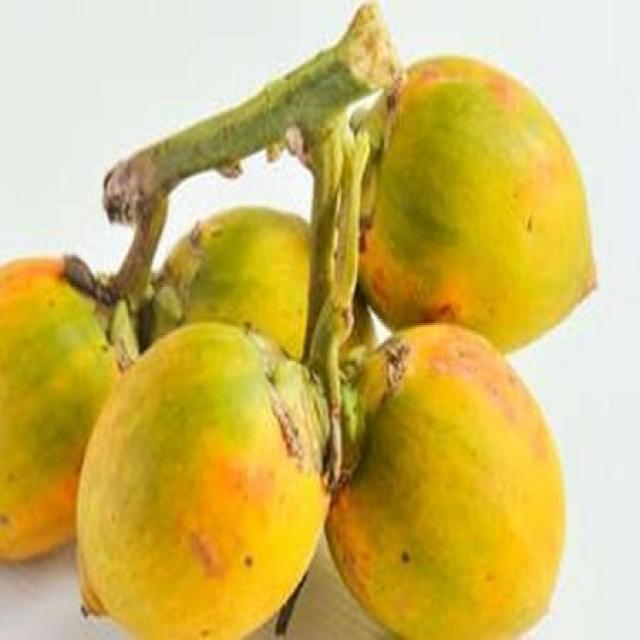good: (75, 321, 374, 638), (323, 323, 569, 638), (358, 56, 599, 355), (0, 259, 118, 566), (152, 207, 311, 359)
